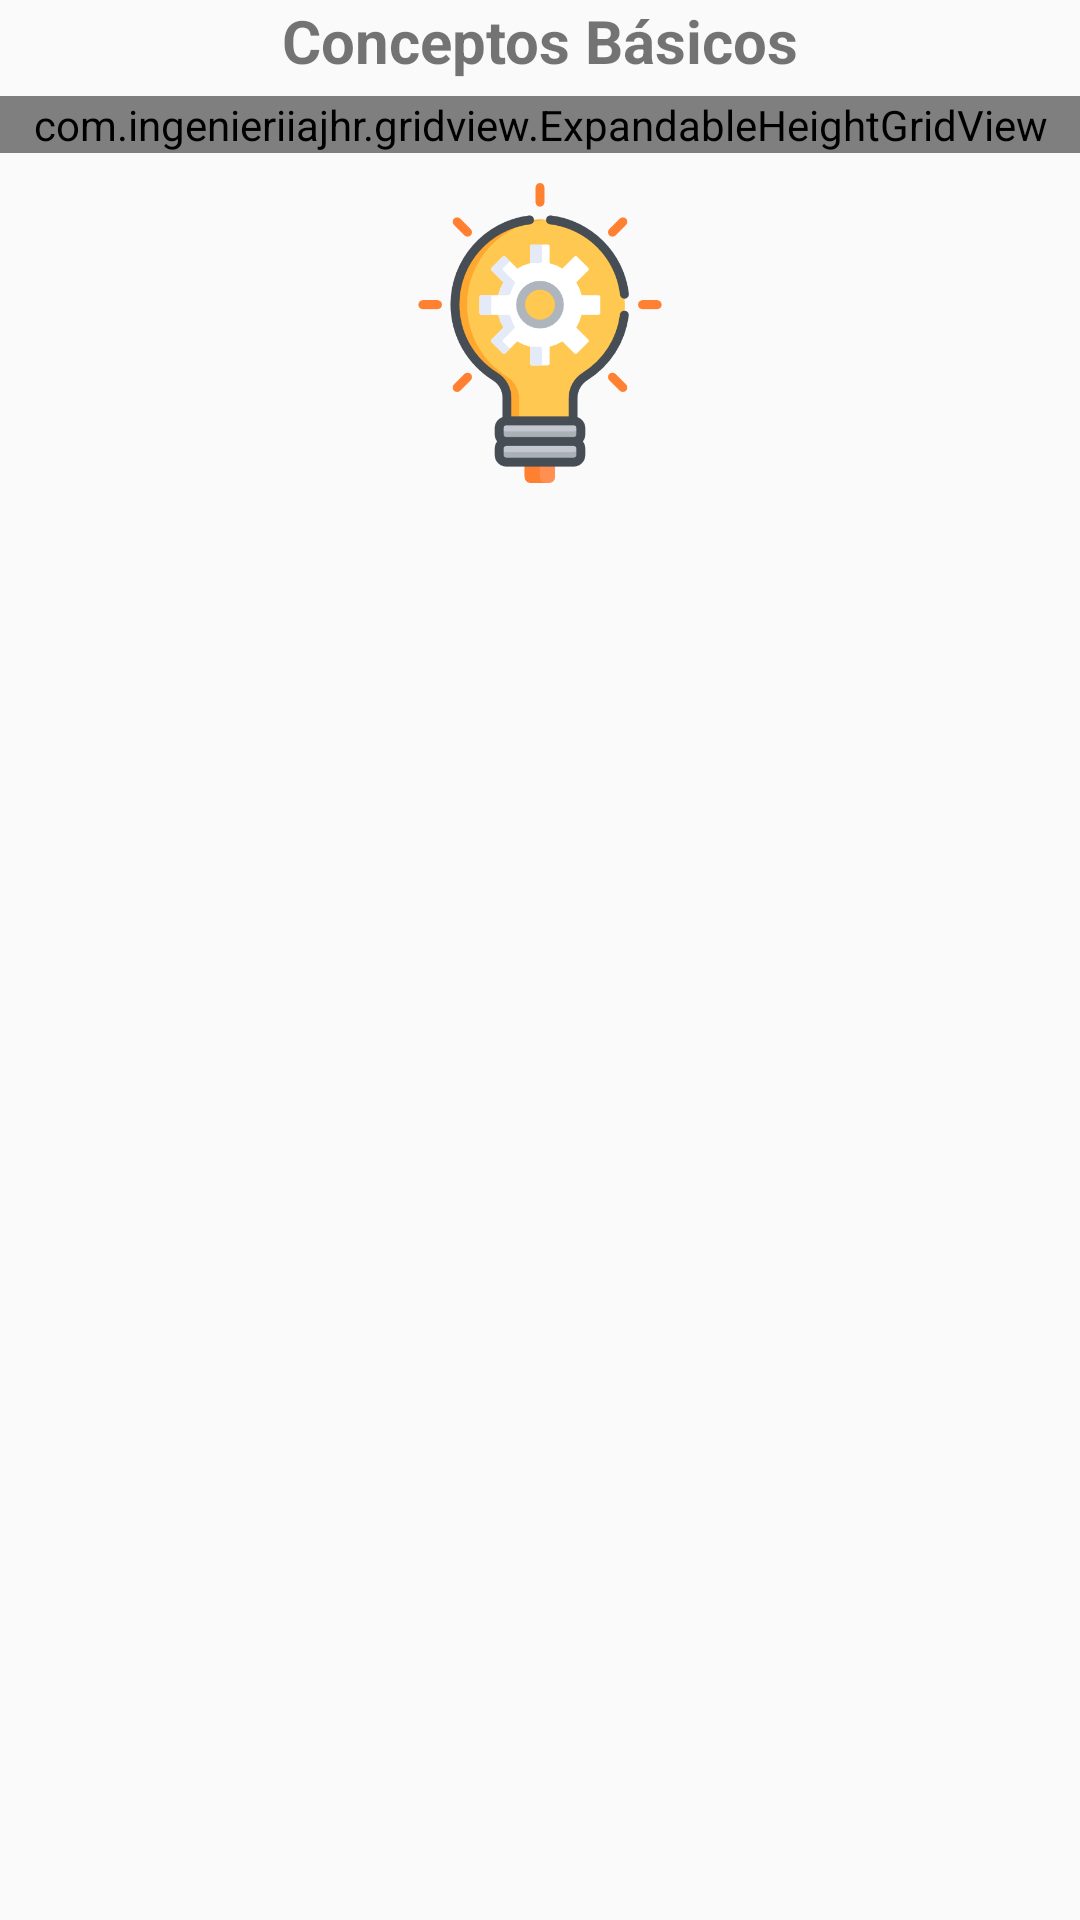

Where icons sit on this 1080w x 1920h app screen, as [x1,y1,x2,y2]:
conseptos: [418,183,662,483]
